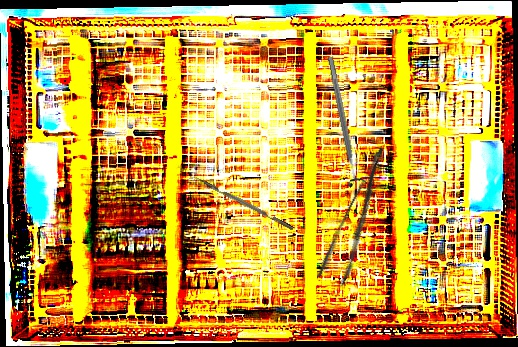Chopper: (186, 172, 295, 235)
Dressing Forceps: (314, 143, 408, 290)
Fixation Ring: (320, 54, 368, 189)
